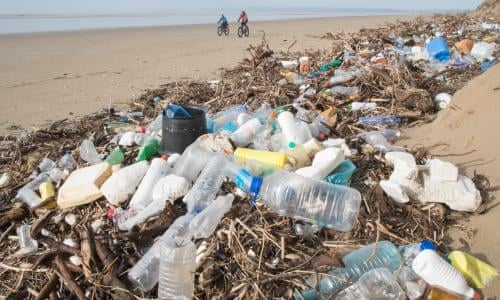plastic_bottle: (188, 43, 384, 192), (90, 169, 282, 300), (135, 103, 280, 248), (229, 145, 395, 262), (272, 232, 448, 300), (138, 204, 257, 300), (173, 169, 276, 274), (398, 197, 492, 300)
